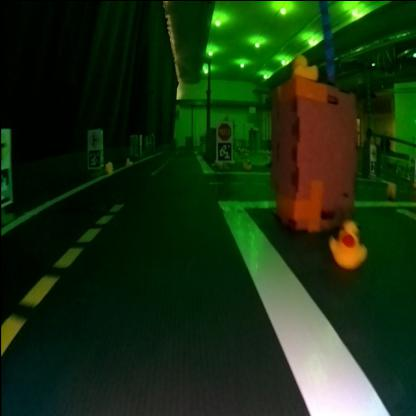Duckie: (330, 222, 366, 264), (292, 53, 318, 74), (106, 160, 113, 172), (242, 158, 252, 166), (128, 156, 132, 162)
Intersection sign: (88, 129, 100, 147)
QR code: (218, 140, 233, 160), (87, 148, 101, 166)
Stop sign: (218, 119, 232, 140)
